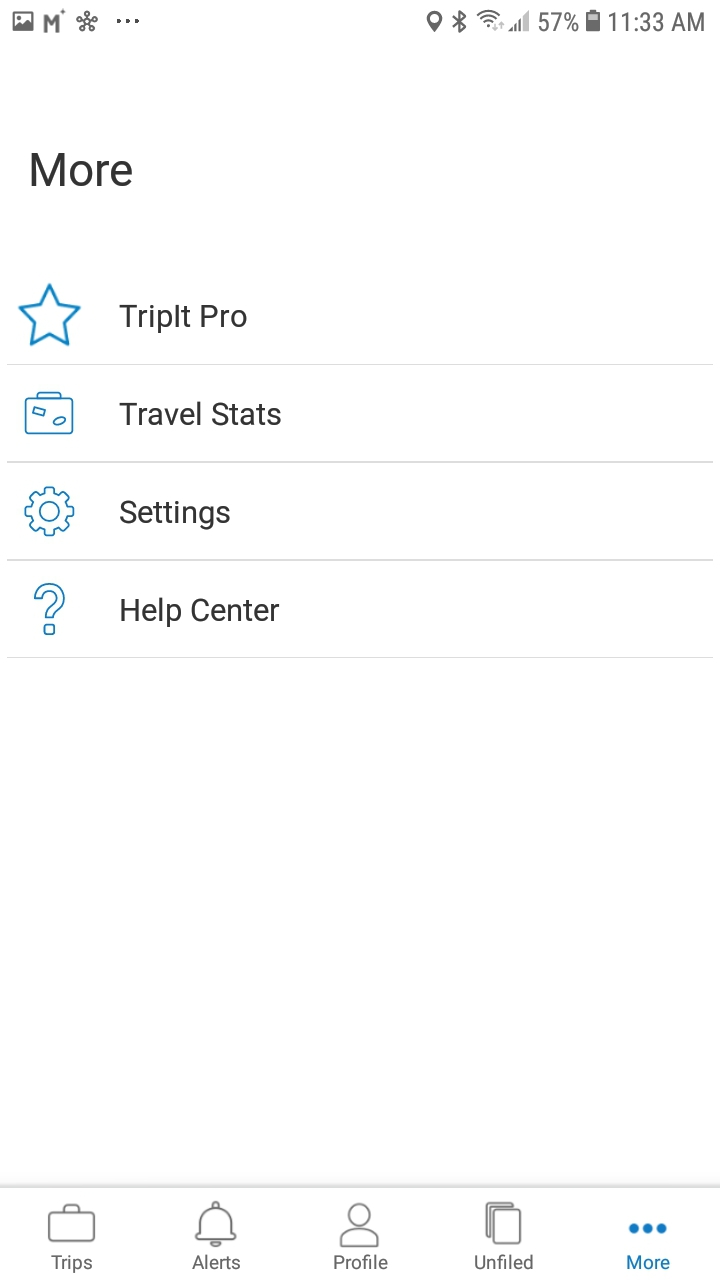Icon: (18, 284, 82, 348), (25, 486, 76, 538), (25, 391, 75, 435), (195, 1201, 238, 1248), (48, 1202, 97, 1243), (340, 1202, 380, 1248), (34, 582, 67, 636), (484, 1201, 522, 1245), (628, 1222, 667, 1234)
Text: (121, 597, 280, 628), (119, 402, 282, 427), (120, 304, 248, 334), (32, 153, 134, 188), (120, 500, 231, 531), (475, 1253, 534, 1270), (334, 1254, 389, 1270), (191, 1253, 241, 1270), (51, 1254, 94, 1273), (627, 1254, 670, 1270)
UpperTaskBar: (1, 1, 720, 35)
